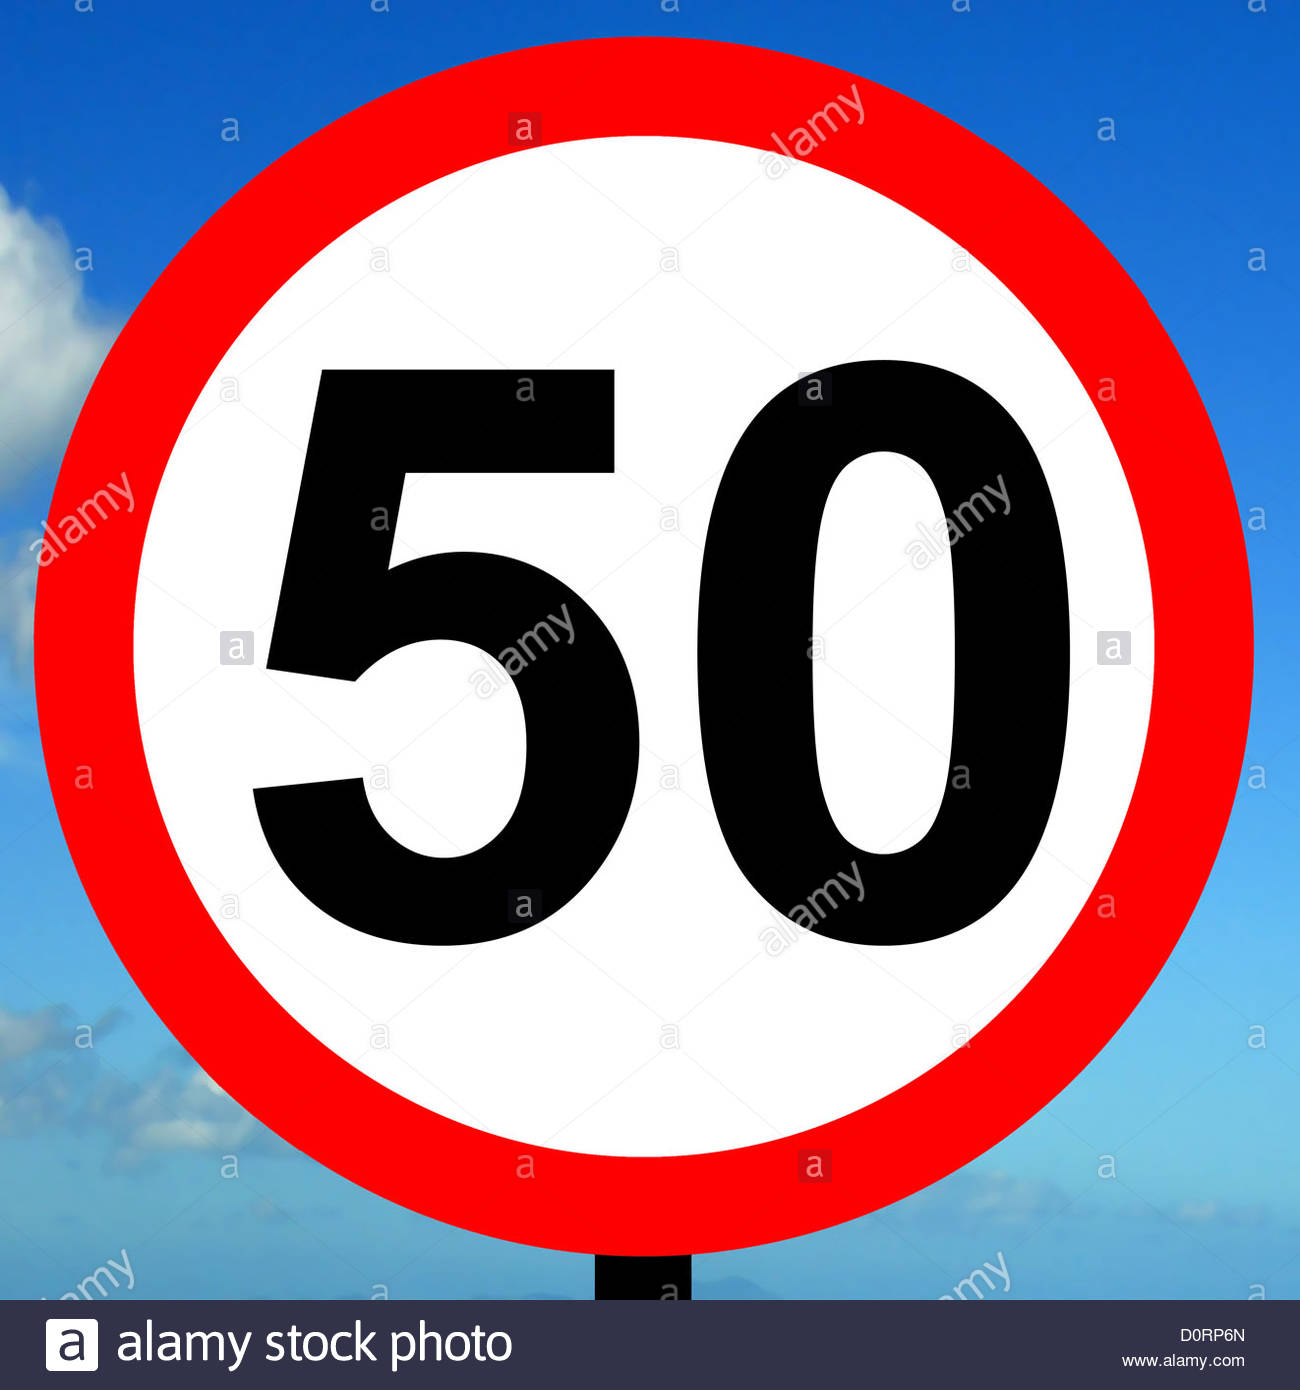Speed_limit_50km: (35, 34, 1267, 1269)
